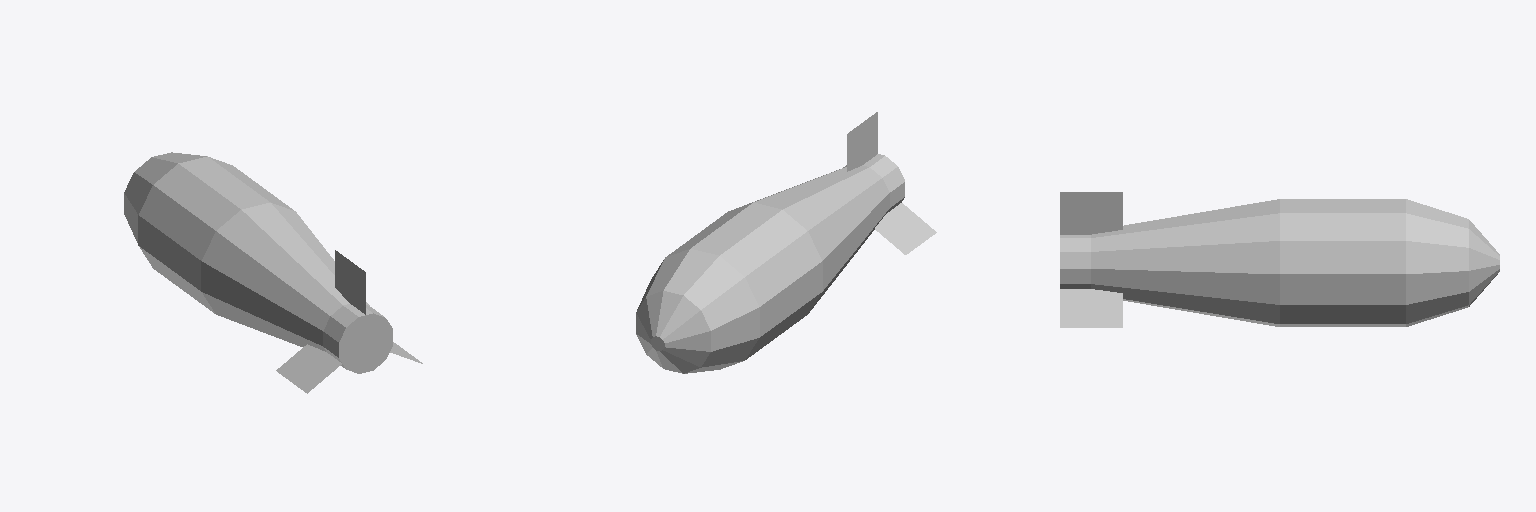
Rendered from tsar_bomba.obj.
3 views of the same model, side by side, from view 1: azimuth 30°, elevation 25°; view 2: azimuth 150°, elevation 25°; view 3: azimuth 270°, elevation 25° (orthographic).
Visible parts, largest first — view 1: cylinder, fin2, fin1; view 2: cylinder, fin2, fin1; view 3: cylinder, fin1, fin3.
Part boxes in pixels (x1,y1,x2,y2): cylinder: (124, 152, 392, 373); fin2: (276, 344, 341, 393); fin1: (335, 250, 365, 314); cylinder: (636, 154, 904, 373); fin2: (875, 203, 936, 254); fin1: (847, 112, 877, 171); cylinder: (1060, 199, 1499, 326); fin1: (1060, 192, 1122, 234); fin3: (1060, 289, 1122, 327).
Bounding box in the file's own units: 2.17 × 2.25 × 7.